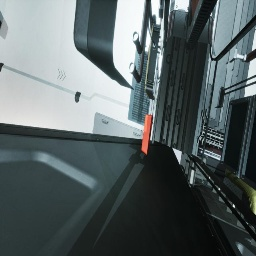EmergencyPhone ,: (145, 2, 161, 100)
FireAlarm ,: (141, 115, 153, 155)
FirstAidBox ,: (0, 20, 2, 28)
